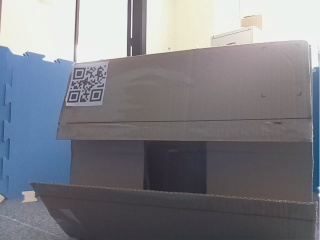caja_rota: (58, 43, 309, 237)
